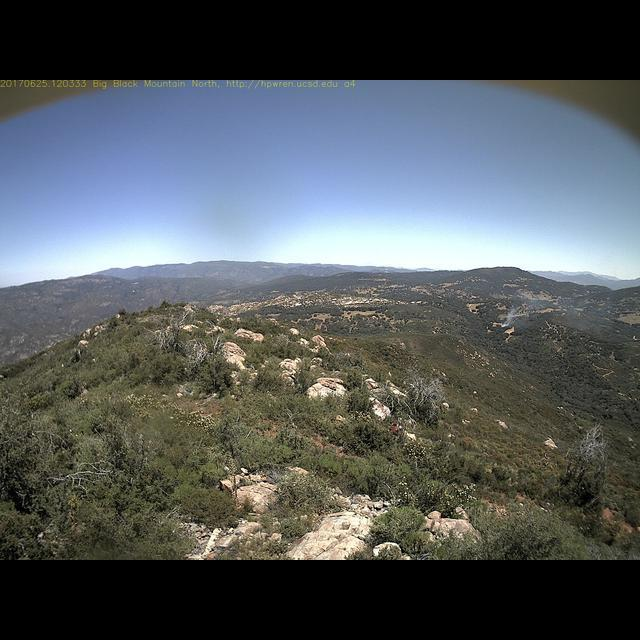Smoke: (491, 294, 557, 334)
